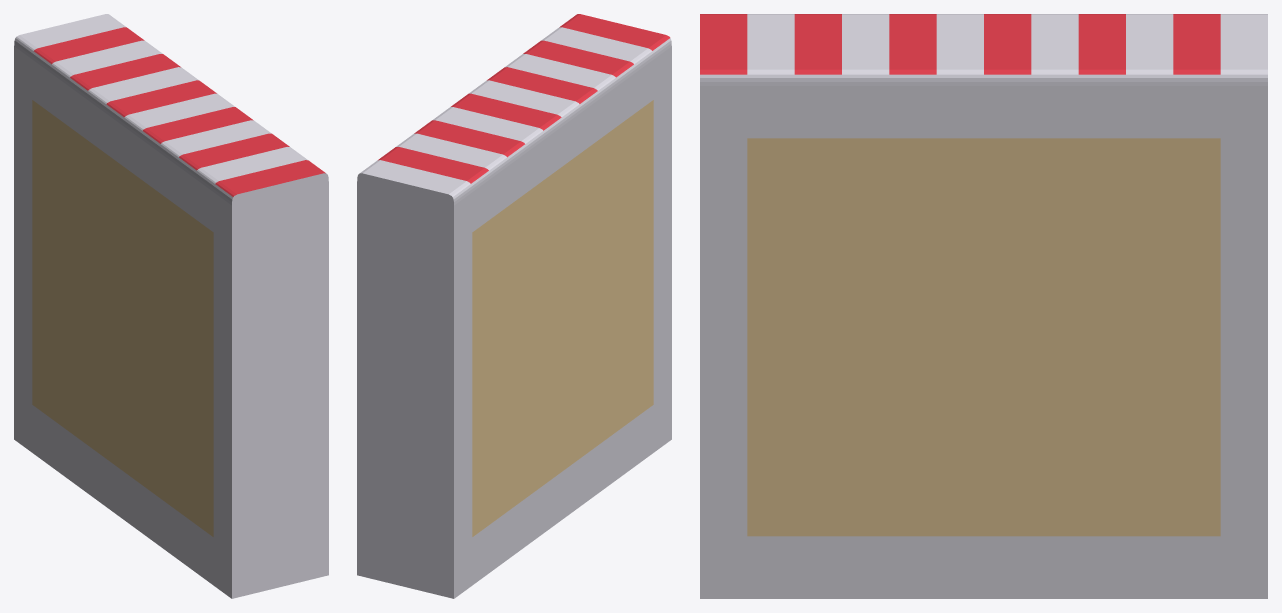
File: ground.fbx
3 views of the same model, side by side, from view 1: azimuth 30°, elevation 25°; view 2: azimuth 150°, elevation 25°; view 3: azimuth 270°, elevation 25° (orthographic). The views are drawn at different scales.
Parts seen in each view (by area): view 1: Cube; view 2: Cube; view 3: Cube.
Part boxes in pixels (x1,y1,x2,y2): Cube: (14,14,328,598); Cube: (357,14,671,598); Cube: (700,14,1267,598).
Size of the model in its own units: 492 by 1955 by 1914.
